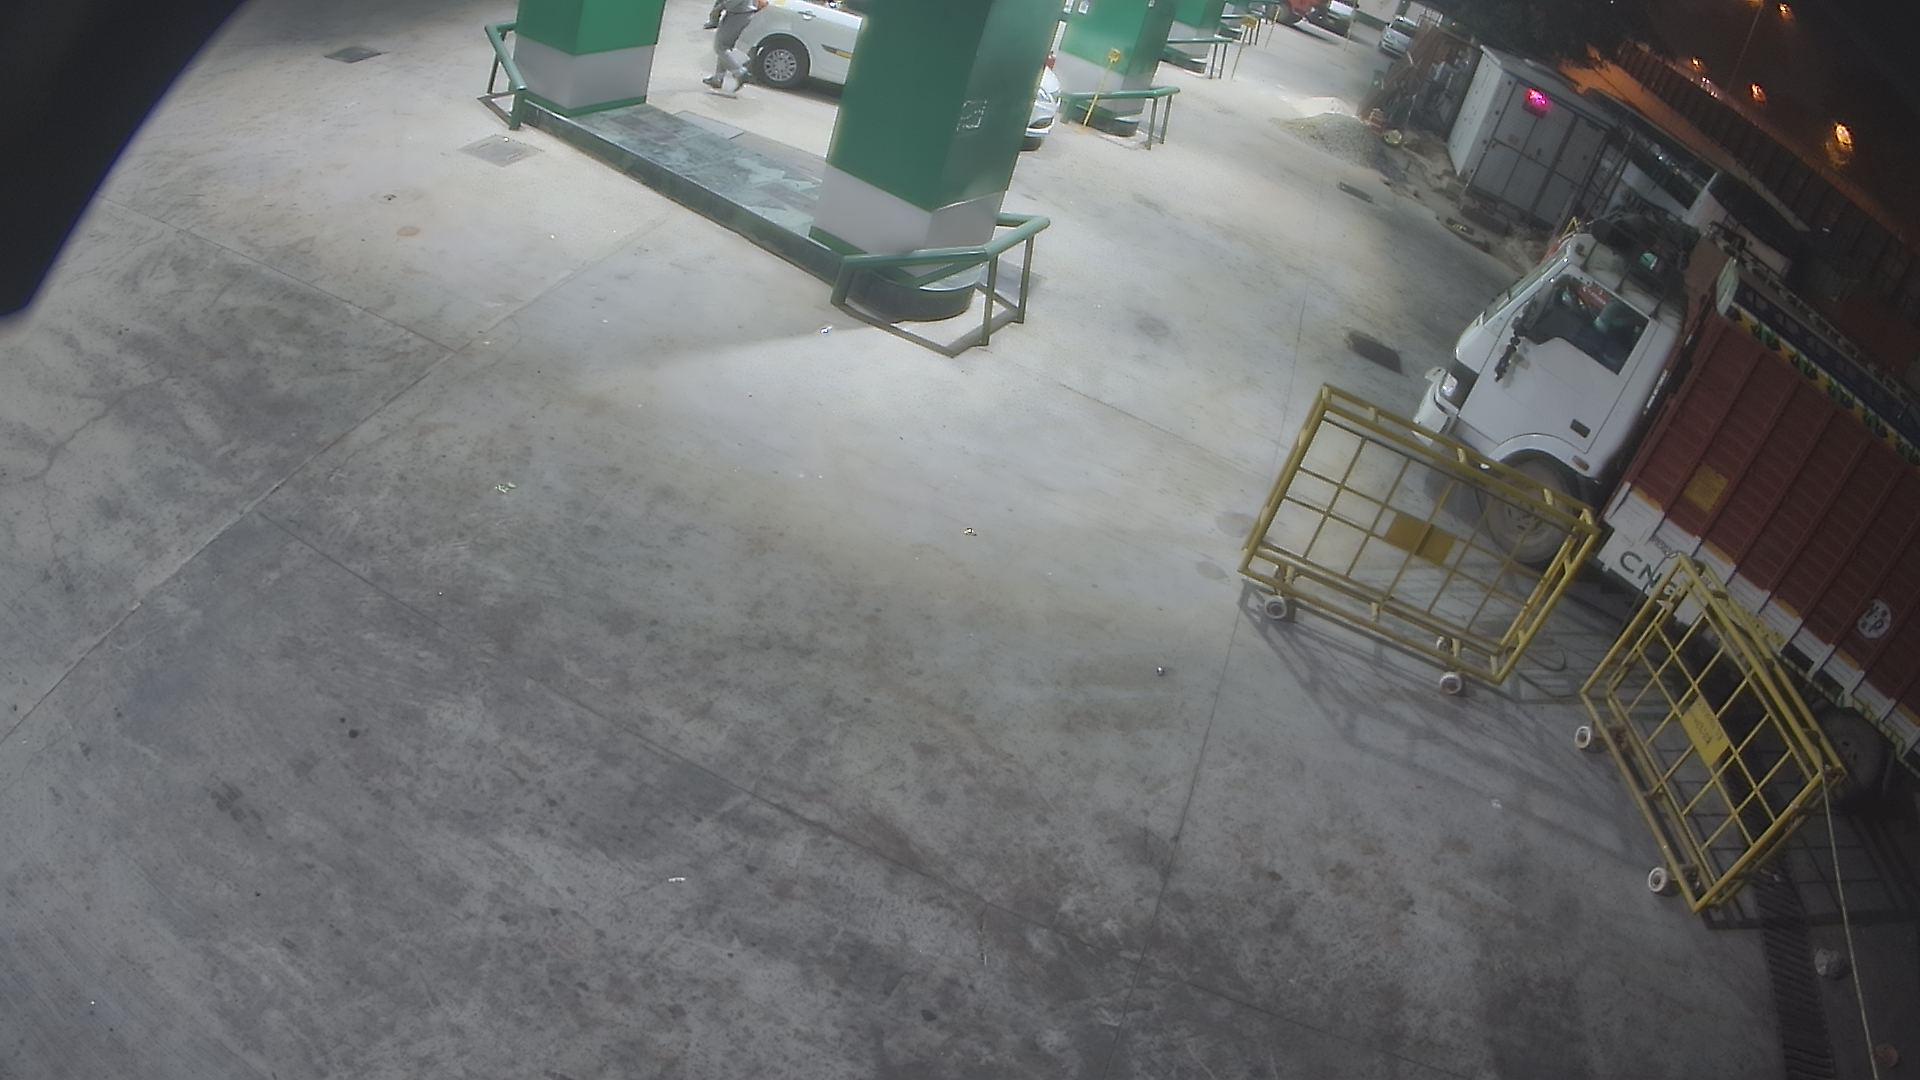Car: (703, 1, 1079, 164), (1366, 7, 1443, 78), (1296, 1, 1373, 38)
HMV: (1378, 154, 1917, 878), (1523, 74, 1829, 332), (1238, 0, 1335, 41)
Others Other: (1062, 44, 1126, 138), (1211, 8, 1262, 92)
